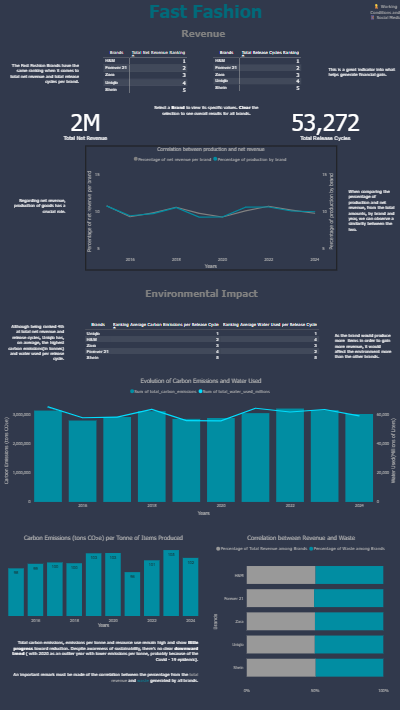

The page's visual inventory and layout, read from the dashboard file:
{"tool":"powerbi","page":{"name":"🌱 Environment & 💰 Revenue Dashboard","canvas":[1080,1920],"ordinal":0},"visuals":[{"type":"lineChart","title":"Correlation between production and net revenue","fields":{"Category":["Merge1.public one_production_impact.year"],"Y":["Avg(Merge1.public one_production_impact.pct_of_gdp_by_brand)"],"Y2":["Avg(Merge1.public one_production_impact.pct_of_production_by_brand)"]},"box":[230,393,670,335],"z":0},{"type":"textbox","box":[10,0,970,81.1],"z":1000},{"type":"card","fields":{"Values":["Sum(public one_total_revenue.total_net_revenue)"]},"box":[98.9,278.9,261.1,114.4],"z":2000},{"type":"pivotTable","fields":{"Rows":["public one_total_cycles.brand"],"Values":["Sum(public one_total_cycles.rank)"]},"box":[566.2,128.8,295,150],"z":3000},{"type":"pivotTable","fields":{"Rows":["public one_total_revenue.brand"],"Values":["Sum(public one_total_revenue.ranking)"]},"box":[272.5,128.8,258.8,150],"z":4000},{"type":"textbox","box":[22,166.7,195,92.5],"z":5000},{"type":"textbox","box":[872,176.7,195,72.5],"z":6000},{"type":"card","fields":{"Values":["Sum(public one_total_cycles.total_release_cycles)"]},"box":[754.4,278.9,234.4,114.4],"z":7000},{"type":"textbox","box":[360,519,192,150],"z":8000},{"type":"textbox","box":[398.8,278.8,306.2,46.2],"z":9000},{"type":"textbox","box":[10,73.8,1070,46.2],"z":10000},{"type":"textbox","box":[925,503.3,141.7,131.7],"z":11000},{"type":"textbox","box":[21.4,527.1,162.9,61.4],"z":12000},{"type":"textbox","box":[0,765,1080,55],"z":13000},{"type":"clusteredColumnChart","title":"Carbon Emissions (tons CO₂e) per Tonne of Items Produced","fields":{"Category":["public two_emissions_per_tonne_produced.year"],"Y":["Sum(public two_emissions_per_tonne_produced.carbon_emissions_per_tonnes)"]},"box":[18.3,1428.3,516.7,255],"z":14000},{"type":"tableEx","fields":{"Values":["public two_environment_impact_per_cycle_ranking.brand","Sum(public two_environment_impact_per_cycle_ranking.ranking_avg_emissions_per_cycle_all_years_per_brand)","Sum(public two_environment_impact_per_cycle_ranking.ranking_avg_water_per_cycle_all_years_per_brand)"]},"box":[222,858.3,642.9,127.1],"z":15000},{"type":"textbox","box":[17.5,862.5,162.5,118.8],"z":16000},{"type":"textbox","box":[887.7,891.1,162.9,61.4],"z":17000},{"type":"textbox","box":[890,887.1,162.9,91.4],"z":18000},{"type":"lineClusteredColumnComboChart","title":"Evolution of Carbon Emissions and Water Used","fields":{"Category":["public two_environment_impact_per_cycle.year"],"Y":["Sum(public two_environment_impact_per_cycle.total_carbon_emissions)"],"Y2":["Sum(public two_environment_impact_per_cycle.total_water_used_millions)"]},"box":[10,1008.3,1056.7,375],"z":19000},{"type":"hundredPercentStackedBarChart","title":"Correlation between Revenue and Waste","fields":{"Category":["public two_environment_gdp_correlation.brand"],"Y":["Sum(public two_environment_gdp_correlation.pct_gdp)","Sum(public two_environment_gdp_correlation.pct_waste)"]},"box":[565,1428.3,478.3,433.3],"z":20000},{"type":"textbox","box":[18.3,1705,516.7,140],"z":21000},{"type":"actionButton","box":[980,0,100,73.3],"z":21001}]}

Visuals, with their boxes in screenshot pixels (x1, y1, x2, y2), scaled from the page's 1080x1920 canvas onto the 400x710 screenshot:
"Correlation between production and net revenue" lineChart: 85, 145, 333, 269
textbox: 4, 0, 363, 30
card - Sum(public one_total_revenue.total_net_revenue): 37, 103, 133, 145
pivotTable - public one_total_cycles.brand x Sum(public one_total_cycles.rank): 210, 48, 319, 103
pivotTable - public one_total_revenue.brand x Sum(public one_total_revenue.ranking): 101, 48, 197, 103
textbox: 8, 62, 80, 96
textbox: 323, 65, 395, 92
card - Sum(public one_total_cycles.total_release_cycles): 279, 103, 366, 145
textbox: 133, 192, 204, 247
textbox: 148, 103, 261, 120
textbox: 4, 27, 399, 44
textbox: 343, 186, 395, 235
textbox: 8, 195, 68, 218
textbox: 0, 283, 399, 303
"Carbon Emissions (tons CO₂e) per Tonne of Items Produced" clusteredColumnChart: 7, 528, 198, 622
tableEx - public two_environment_impact_per_cycle_ranking.brand x Sum(public two_environment_impact_per_cycle_ranking.ranking_avg_emissions_per_cycle_all_years_per_brand): 82, 317, 320, 364
textbox: 6, 319, 67, 363
textbox: 329, 330, 389, 352
textbox: 330, 328, 390, 362
"Evolution of Carbon Emissions and Water Used" lineClusteredColumnComboChart: 4, 373, 395, 512
"Correlation between Revenue and Waste" hundredPercentStackedBarChart: 209, 528, 386, 688
textbox: 7, 630, 198, 682
actionButton: 363, 0, 399, 27
